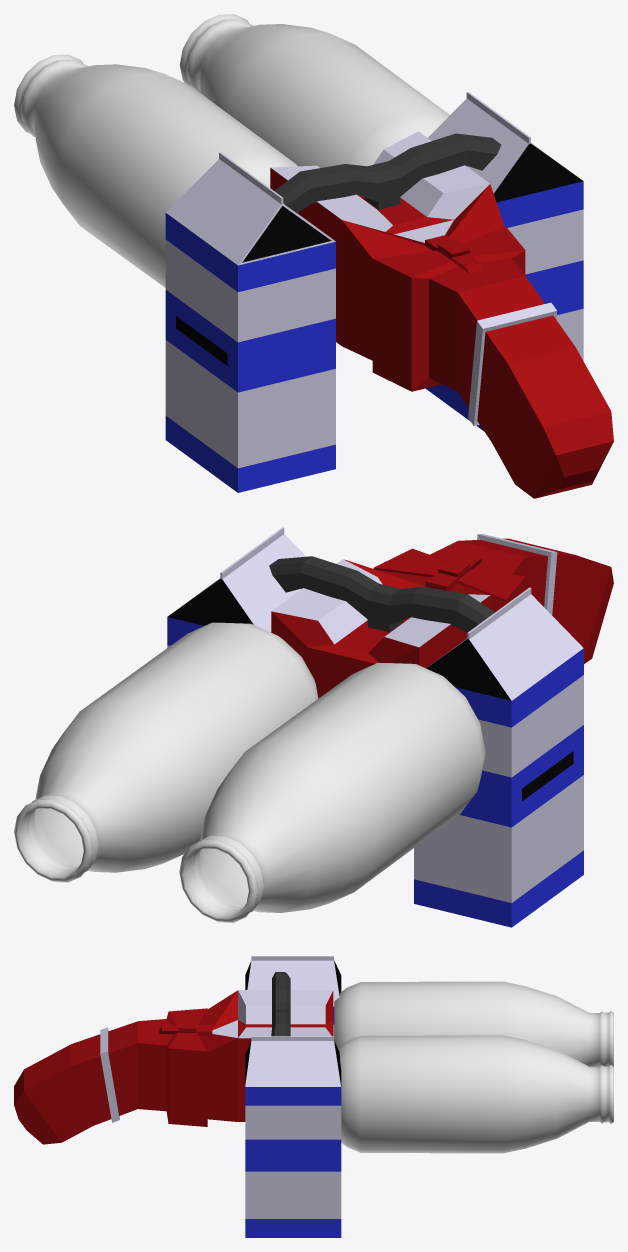
File: shotGun_Equip_Animation.fbx
3 renders of one model, top to bottom at view 1: azimuth 30°, elevation 25°; view 2: azimuth 150°, elevation 25°; view 3: azimuth 270°, elevation 25°, orthographic. The views are drawn at different scales.
Parts seen in each view (by area): view 1: karton_SKutusu, Milk_Glass, Kabza, tube; view 2: Milk_Glass, karton_SKutusu, Kabza, tube; view 3: Milk_Glass, Kabza, karton_SKutusu, tube.
Part boxes in pixels (box(x1,y1,x2,y2)): karton_SKutusu: box(165, 92, 583, 492); Milk_Glass: box(14, 14, 449, 287); Kabza: box(270, 131, 613, 498); tube: box(274, 133, 501, 212); Milk_Glass: box(14, 622, 485, 922); karton_SKutusu: box(167, 527, 583, 927); Kabza: box(271, 534, 613, 698); tube: box(269, 556, 494, 632); Milk_Glass: box(334, 981, 613, 1153); Kabza: box(14, 990, 333, 1144); karton_SKutusu: box(245, 956, 341, 1237); tube: box(271, 972, 290, 1036).
Size of the model in its own units: 282 by 218 by 638.
